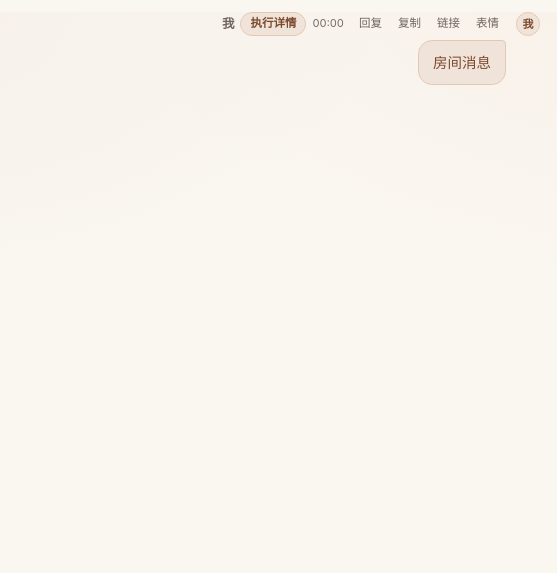
it: MessageCard 右键菜单 › 菜单项调用与消息绑定的房间回调
This screenshot has width=557, height=573.
Earlier steps of the test are not shown.
Later steps or results of the test are not shown.
Right-click the element with id "message-301" at point(328, 23), box [222,12,540,85]
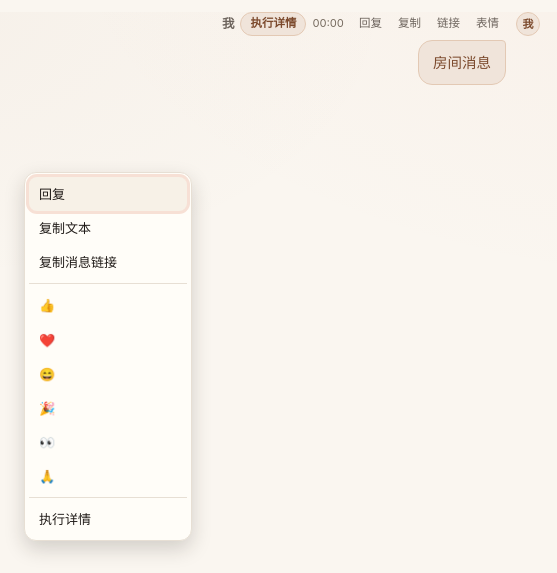
Click the menu item "复制文本". click: point(108, 228)
box: [29,211,187,245]
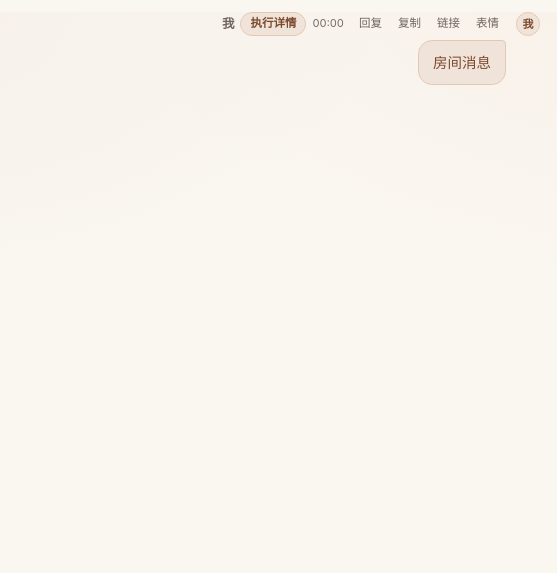
Expected: the menu is gone
Right-click the element with id "message-301" at point(328, 23), box [222,12,540,85]
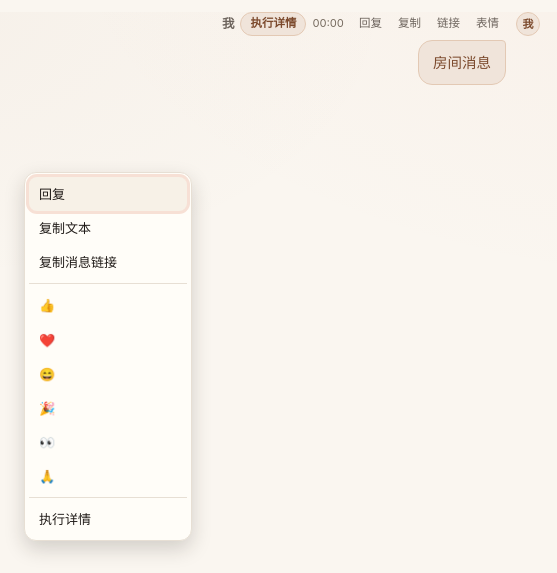
Click the menu item "复制消息链接". click: point(108, 262)
box: [29,245,187,279]
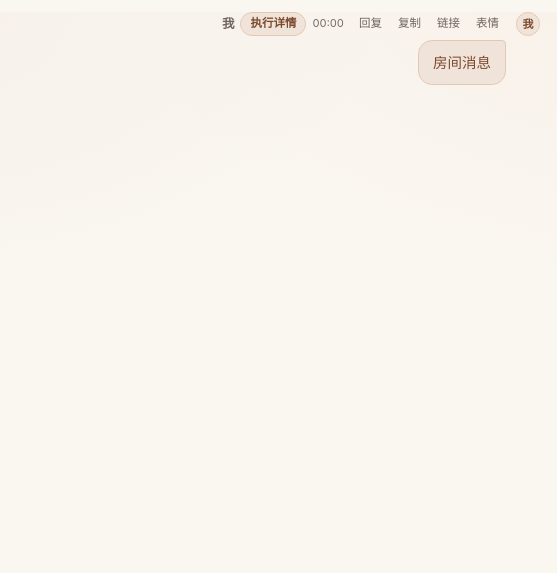
Expected: the menu is gone
Right-click the element with id "message-301" at point(328, 23), box [222,12,540,85]
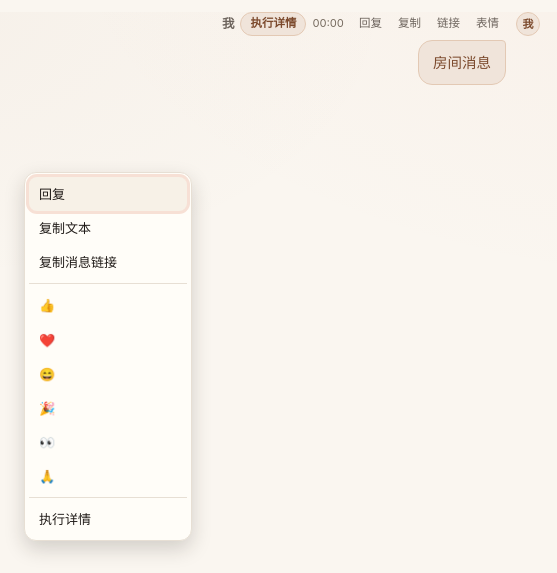
Click the menu item "👍". click: point(108, 305)
box: [29,288,187,322]
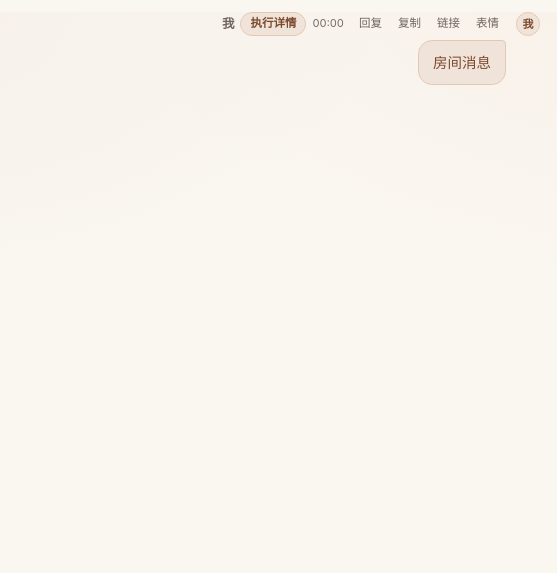
Expected: the menu is gone
